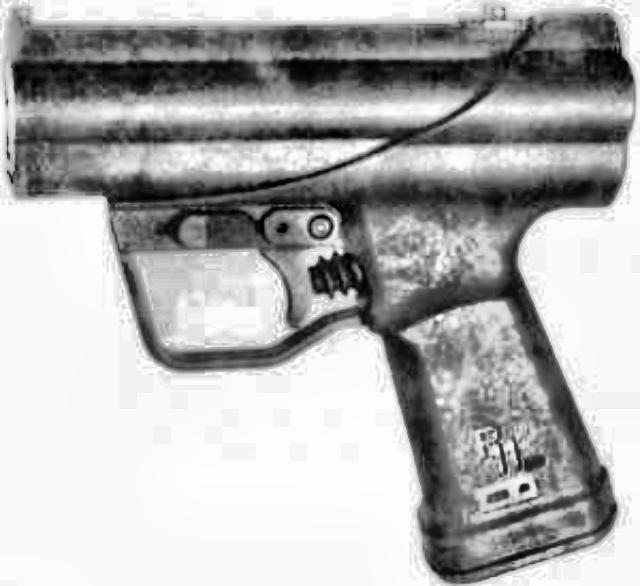pistol: (2, 2, 638, 580)
